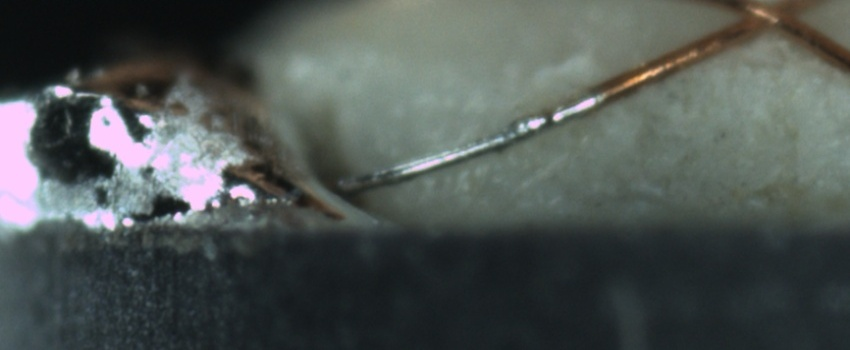CL: (708, 0, 819, 42)
TS: (331, 91, 604, 195)
TTCW: (335, 71, 643, 196)
